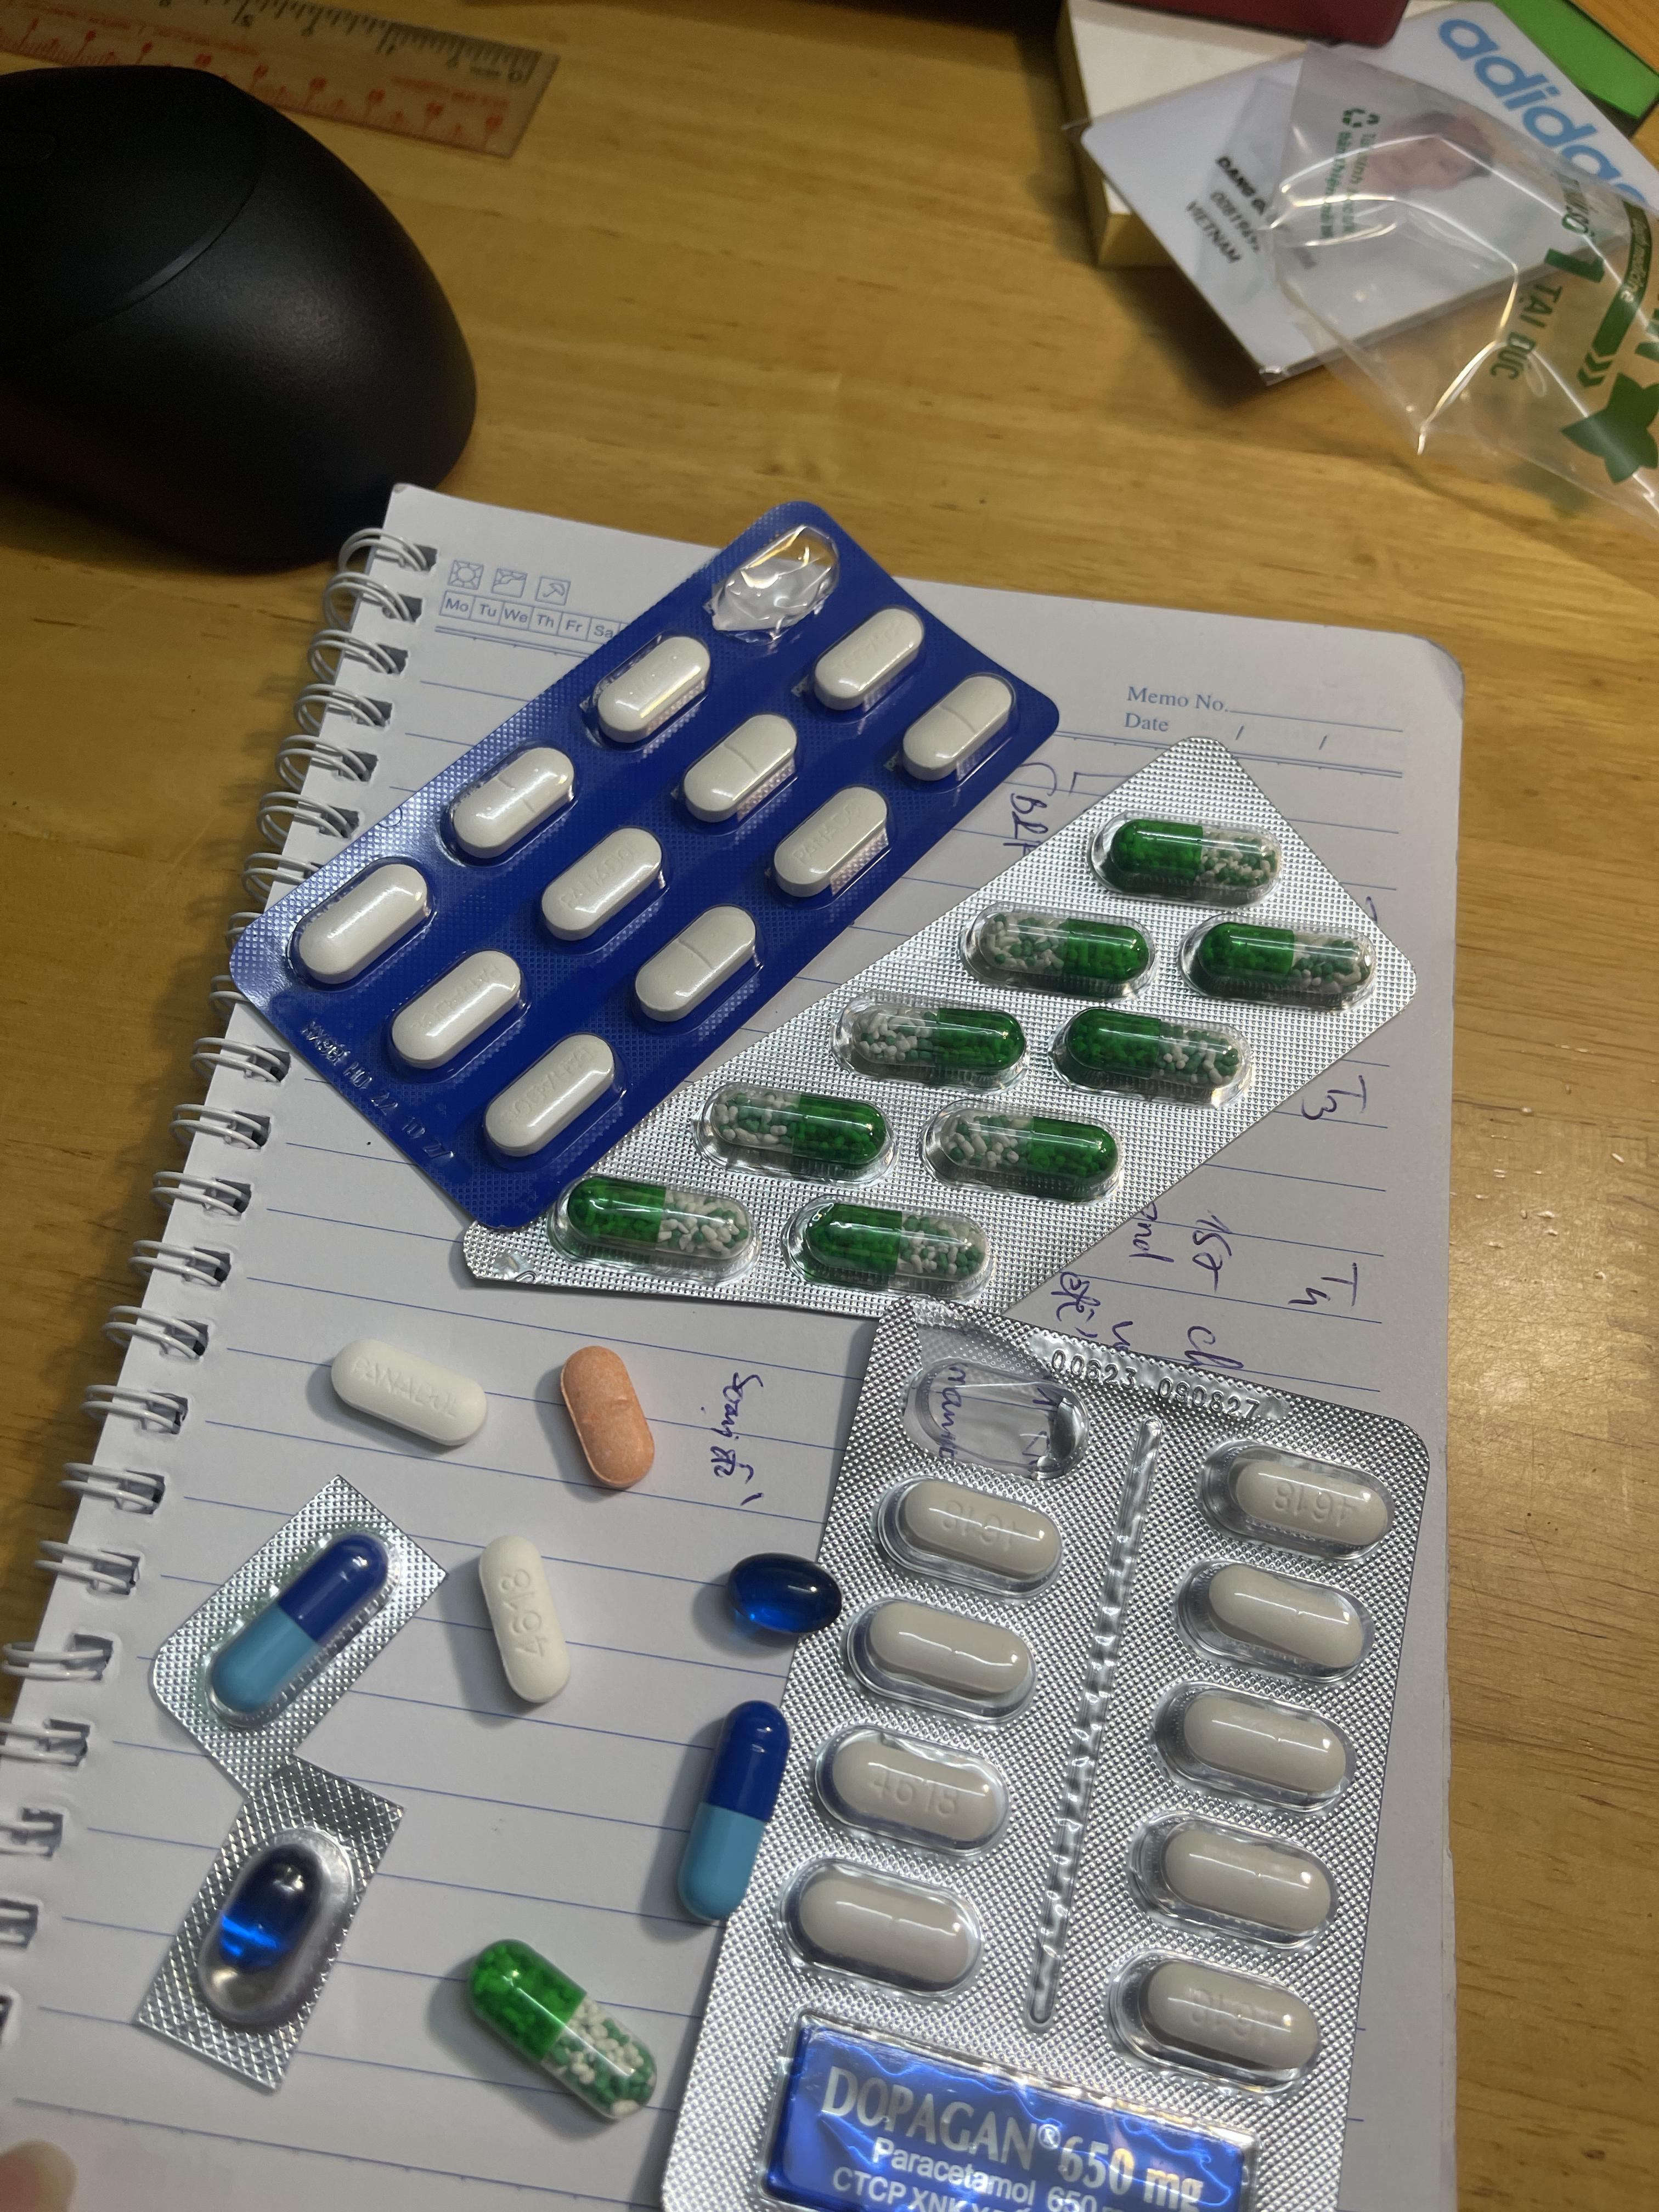Lincomyxin_500mg: (213, 1848, 319, 1965), (720, 1554, 840, 1637)
Loratadine_10mg: (558, 1346, 653, 1489)
Paracetamol_350mg: (329, 1339, 491, 1447), (296, 862, 434, 986), (484, 1035, 619, 1157), (390, 948, 523, 1068), (540, 826, 666, 942), (450, 745, 577, 860), (636, 907, 756, 1021), (772, 786, 887, 900), (681, 712, 796, 826), (896, 674, 1014, 784), (592, 634, 711, 744), (807, 608, 920, 712)
Paracetamol_500mg: (1114, 1949, 1326, 2083), (1134, 1810, 1342, 1939), (784, 1860, 983, 1994), (1154, 1681, 1358, 1804), (817, 1724, 1007, 1851), (1180, 1554, 1375, 1677), (852, 1595, 1039, 1717), (1201, 1440, 1396, 1554), (884, 1474, 1066, 1588), (477, 1541, 570, 1700)
Paracetamol_650mg: (467, 1946, 653, 2114), (795, 1204, 983, 1292), (563, 1179, 749, 1261), (939, 1111, 1114, 1191), (1066, 1010, 1236, 1089), (713, 1090, 884, 1167), (850, 1005, 1018, 1076), (1110, 822, 1272, 892), (981, 914, 1147, 982), (1195, 925, 1364, 991)
pill: (209, 1538, 387, 1716), (676, 1705, 788, 1919)
